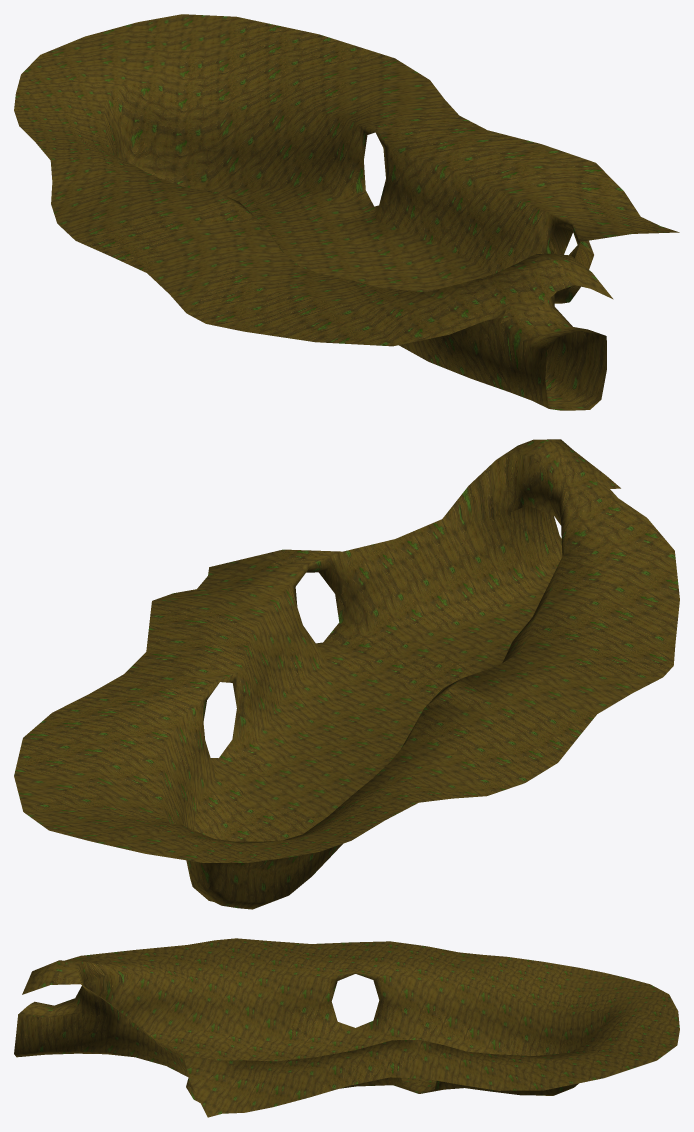
Rendered from MIRKWOOD_AREA4-5.fbx.
3 views of the same model, one above another, from view 1: azimuth 30°, elevation 25°; view 2: azimuth 150°, elevation 25°; view 3: azimuth 270°, elevation 25° (orthographic). The views are drawn at different scales.
Visible parts, largest first — view 1: MIRKWOOD_AREA4-5; view 2: MIRKWOOD_AREA4-5; view 3: MIRKWOOD_AREA4-5.
Boxes of the visible parts, <box> form: MIRKWOOD_AREA4-5: <box>14,14,679,410</box>; MIRKWOOD_AREA4-5: <box>14,439,679,909</box>; MIRKWOOD_AREA4-5: <box>14,938,679,1117</box>.
Bounding box in the file's own units: 471560 × 184532 × 799550.
Materials: 1 (1 with a texture image).
